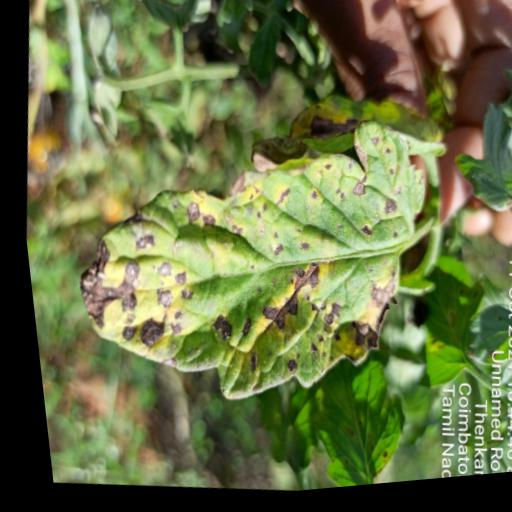Early Blight: (43, 88, 449, 436)
